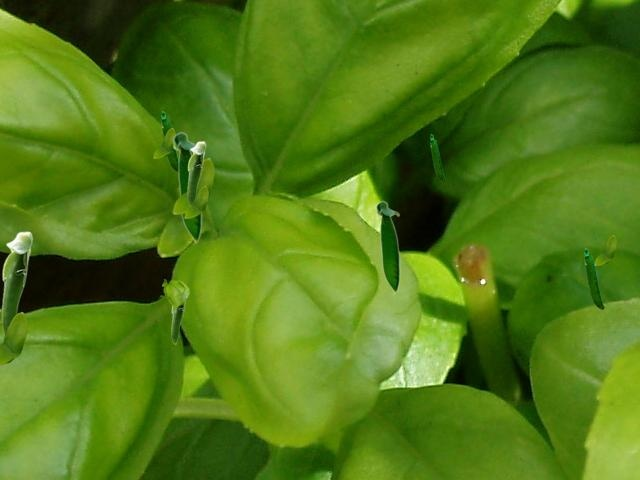pea: (172, 131, 201, 244), (1, 231, 32, 336), (375, 200, 399, 294), (187, 141, 205, 206), (584, 248, 603, 308), (161, 111, 177, 171), (430, 134, 444, 180), (171, 303, 185, 343)
